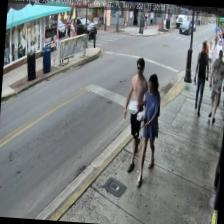person: (119, 56, 151, 172), (136, 71, 162, 185), (190, 40, 210, 115), (206, 48, 224, 121)
